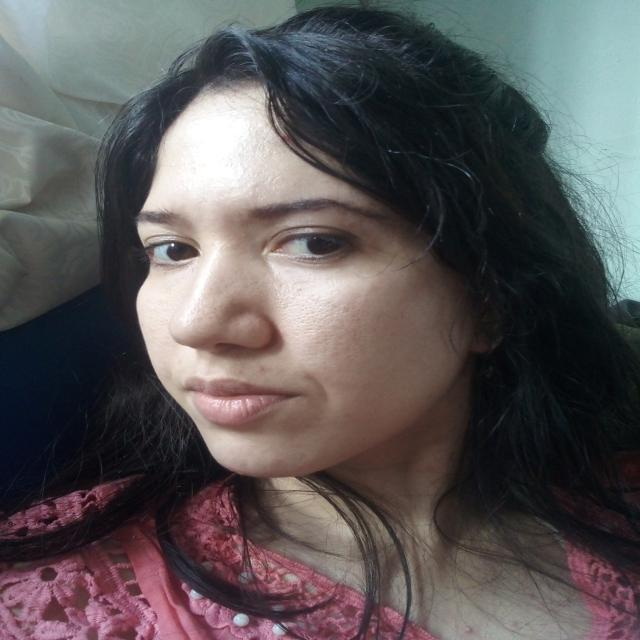acne: (182, 286, 220, 332), (412, 391, 432, 404), (272, 459, 286, 469), (257, 364, 267, 374), (342, 410, 352, 420), (292, 284, 304, 292)
pores: (272, 280, 366, 376), (152, 300, 175, 346)
